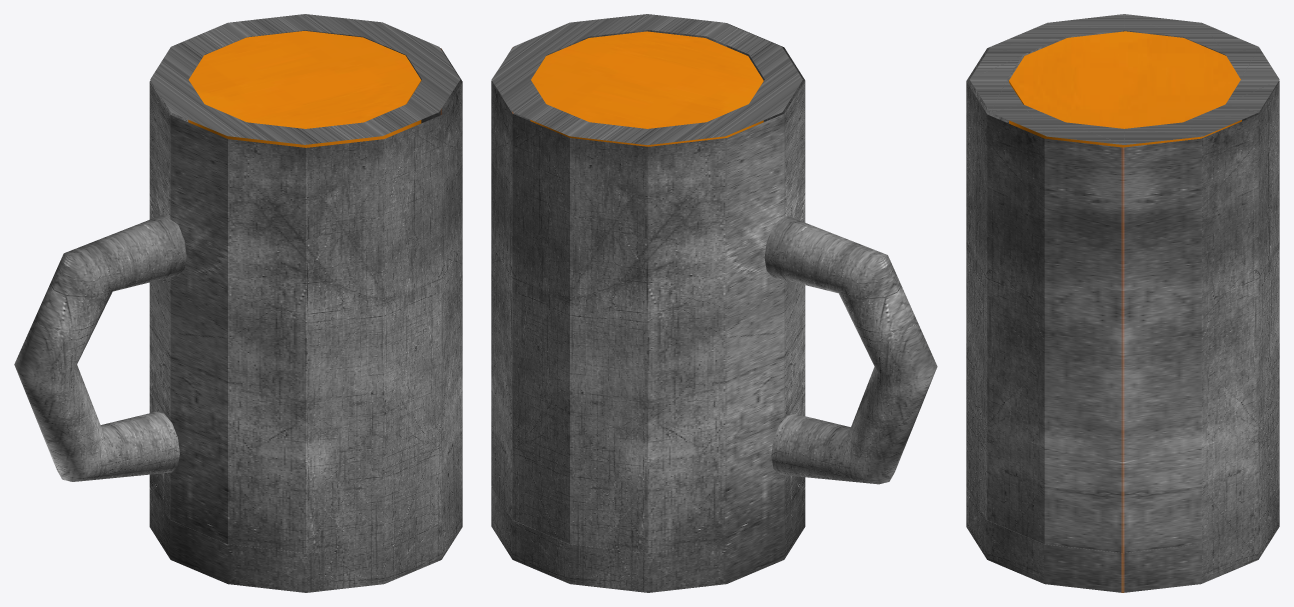
File: grog.fbx
The picture shows the model from 3 angles, left to right: view 1: azimuth 30°, elevation 25°; view 2: azimuth 150°, elevation 25°; view 3: azimuth 270°, elevation 25°; orthographic projection.
Visible parts, largest first — view 1: mug, grog; view 2: mug, grog; view 3: mug, grog.
Boxes of the visible parts, x1,y1,x2,y2 form: mug: (14, 14, 462, 592); grog: (188, 31, 421, 147); mug: (491, 14, 937, 592); grog: (530, 31, 763, 146); mug: (966, 14, 1279, 592); grog: (1009, 31, 1241, 147).
Size of the model in its own units: 4.31 by 4.37 by 2.78.
Materials: 1 (1 with a texture image).
